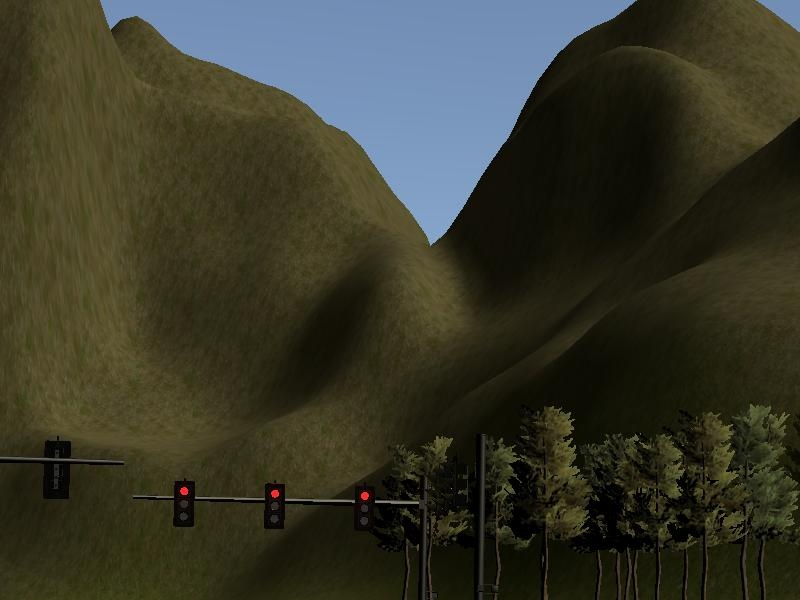red: (171, 480, 195, 529), (263, 483, 287, 532), (354, 485, 378, 534)
